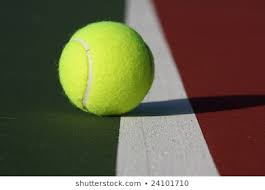tennis_ball: (58, 19, 155, 118)
